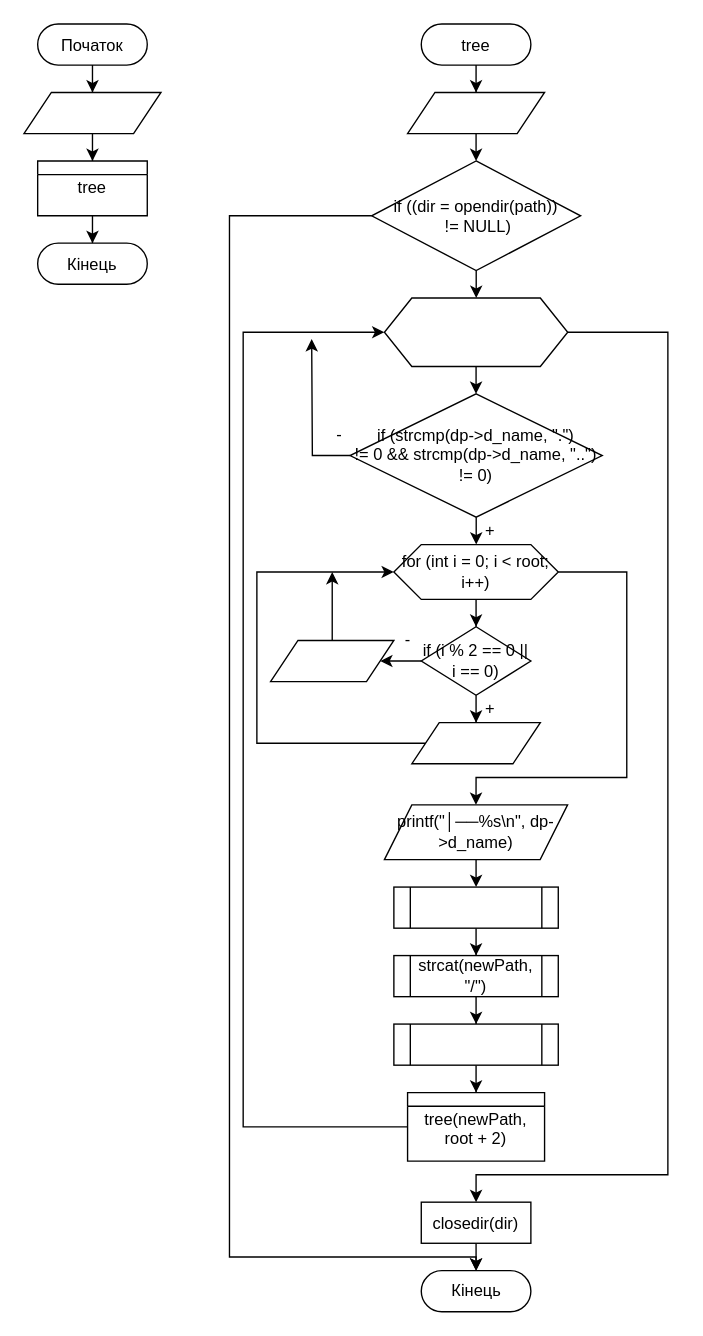
The diagram is 703 pixels wide and 1336 high, and some of its shapes have lost their labels. Here are the shapes that lost their labels. From the top down, the centre of each, then its label:
pixel 92 112: Введення path
pixel 475 112: newPath[N], *dir, *dp
pixel 475 331: while ((dp = readdir(dir)) != NULL)
pixel 331 660: printf(" ")
pixel 475 742: printf(" | ")
pixel 475 907: strcpy(newPath, path)
pixel 475 1044: strcat(newPath, dp->d_name)
